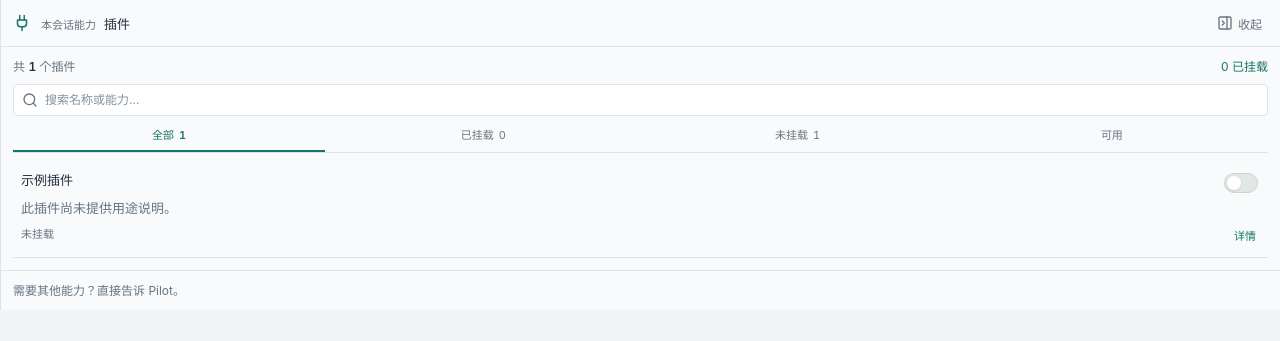
Test case: the session plugin panel › saves an idle switch from the Host without requesting continuation
Click the switch with class "session-plugin-switch" at point(1241, 183), box [1222,171,1260,195]
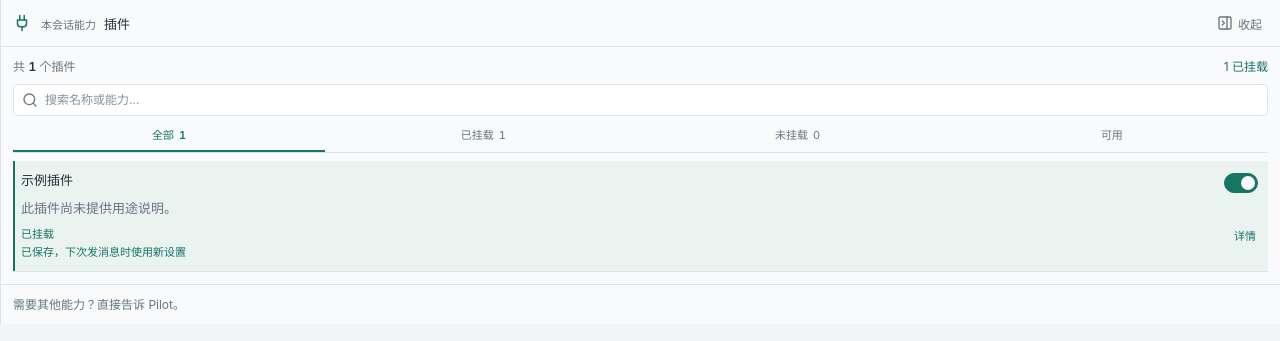
Expected: the text "已挂载" is shown, [21,226,54,242]
Expected: the text "已保存，下次发消息时使用新设置" is shown, [21,245,186,259]
